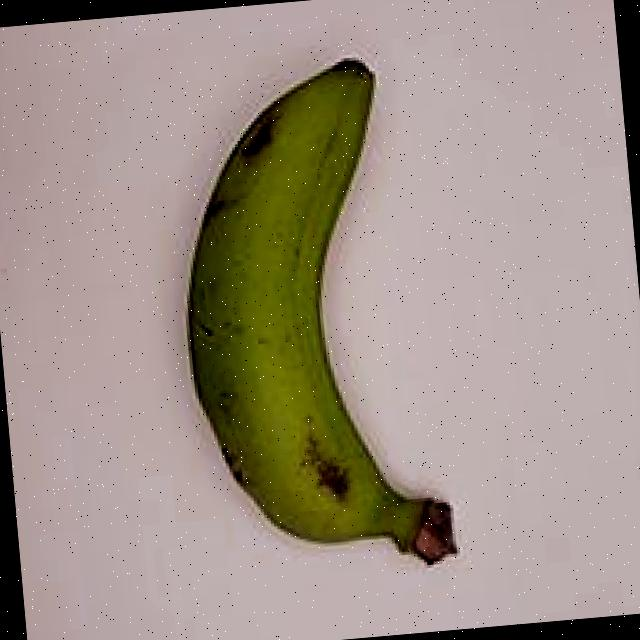Raw: (114, 29, 496, 610)
